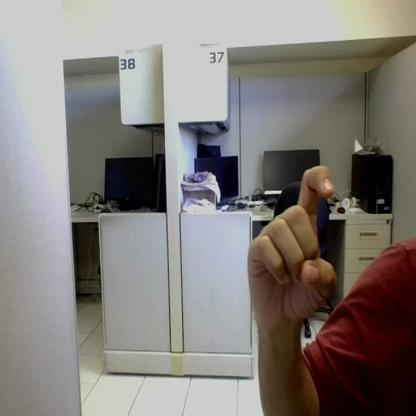X: (248, 167, 338, 317)
